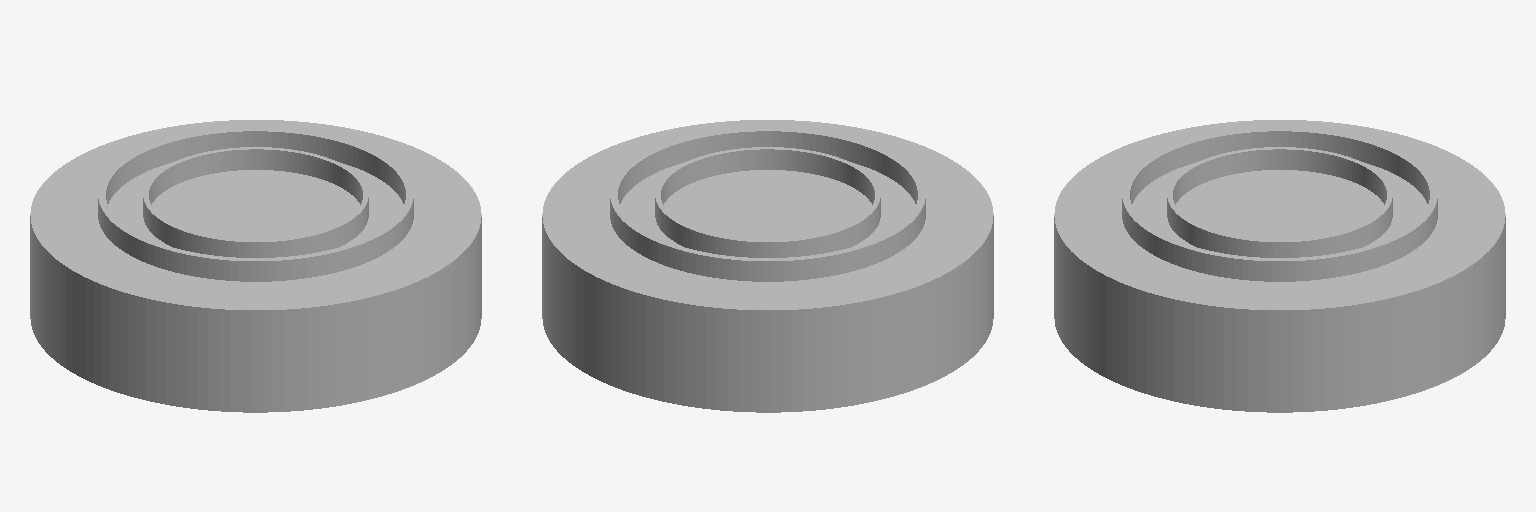
The model's file is chess.obj.
3 renders of one model, left to right at view 1: azimuth 30°, elevation 25°; view 2: azimuth 150°, elevation 25°; view 3: azimuth 270°, elevation 25°, orthographic.
Visible parts, largest first — view 1: Cylinder.000_Cylinder.002; view 2: Cylinder.000_Cylinder.002; view 3: Cylinder.000_Cylinder.002.
Boxes of the visible parts, x1=… form: Cylinder.000_Cylinder.002: x1=30, y1=120, x2=481, y2=412; Cylinder.000_Cylinder.002: x1=542, y1=120, x2=993, y2=412; Cylinder.000_Cylinder.002: x1=1054, y1=120, x2=1505, y2=412.
Size of the model in its own units: 4 by 1.2 by 4.